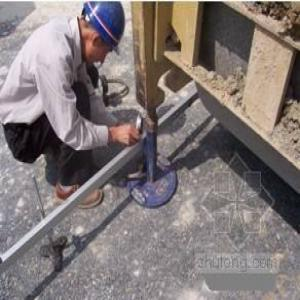blue: (77, 3, 127, 66)
